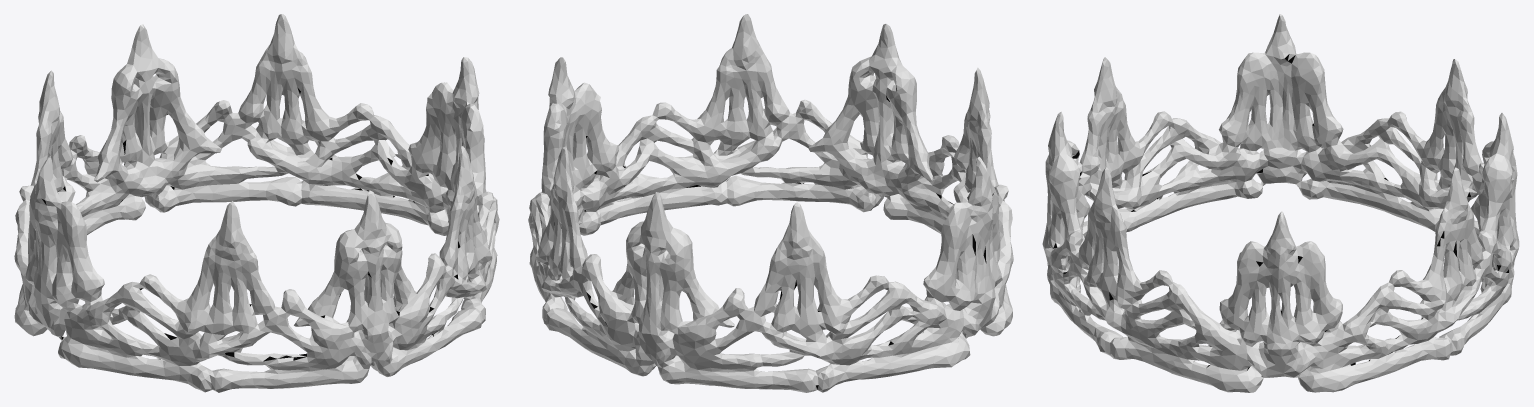
Rendered from nec_crown01.glb.
The picture shows the model from 3 angles, left to right: view 1: azimuth 30°, elevation 25°; view 2: azimuth 150°, elevation 25°; view 3: azimuth 270°, elevation 25°; orthographic projection. The views are drawn at different scales.
Visible parts, largest first — view 1: Low; view 2: Low; view 3: Low.
Part boxes in pixels (<box>): Low: <box>14,14,499,392</box>; Low: <box>528,14,1013,392</box>; Low: <box>1042,14,1519,392</box>.
Bounding box in the file's own units: 1.98 × 0.817 × 1.91.
Materials: 1 (1 with a texture image).
